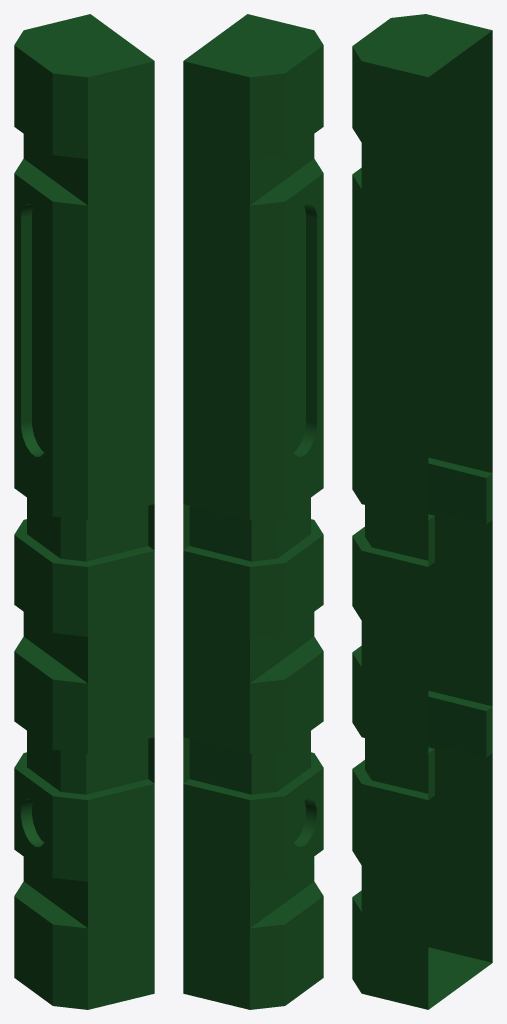
Rendered from Wall_B_4x05m.FBX.
3 views of the same model, side by side, from view 1: azimuth 30°, elevation 25°; view 2: azimuth 150°, elevation 25°; view 3: azimuth 330°, elevation 25° (orthographic).
Parts seen in each view (by area): view 1: Wall_B_4x05m; view 2: Wall_B_4x05m; view 3: Wall_B_4x05m.
Boxes of the visible parts, x1,y1,x2,y2 form: Wall_B_4x05m: (14,14,154,1009); Wall_B_4x05m: (183,14,323,1009); Wall_B_4x05m: (352,14,492,1009).
Bounding box in the file's own units: 40 × 400 × 50.
